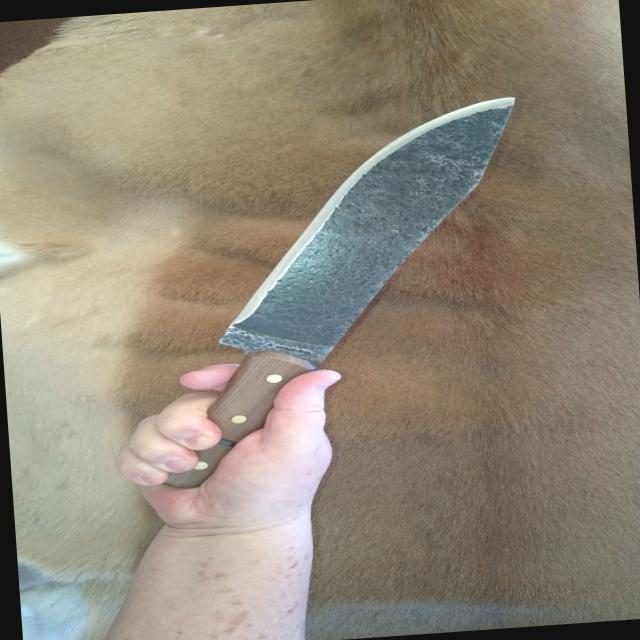knife: (87, 88, 554, 502)
